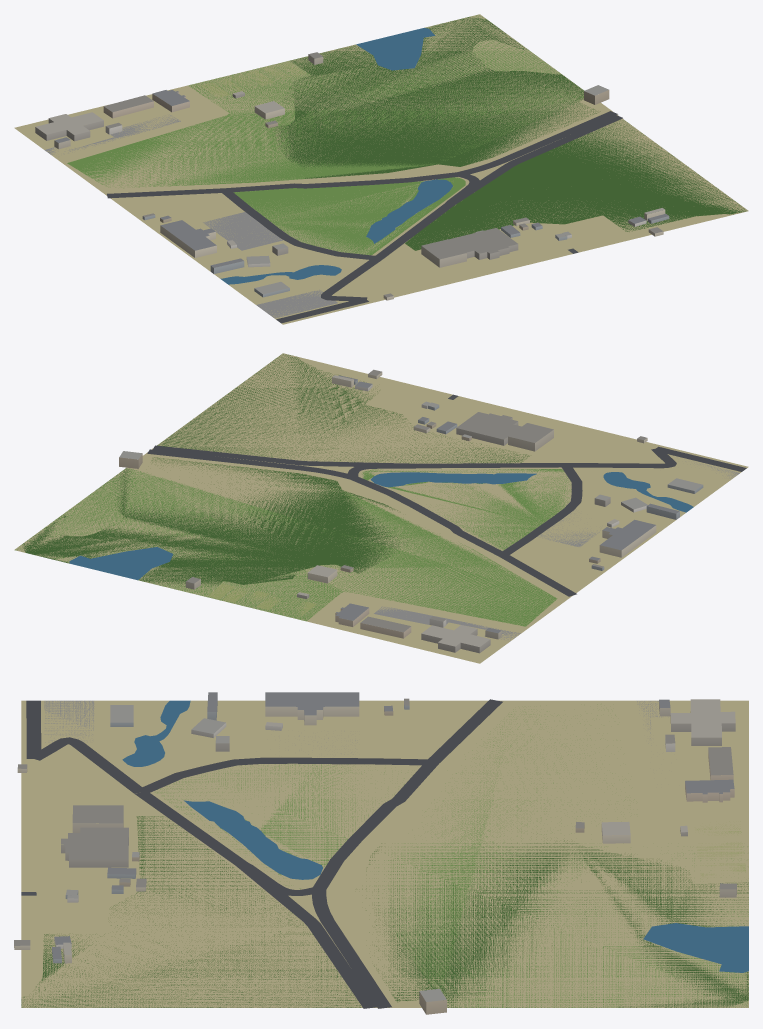
The picture shows the model from 3 angles, top to bottom: view 1: azimuth 30°, elevation 25°; view 2: azimuth 150°, elevation 25°; view 3: azimuth 270°, elevation 25°; orthographic projection. The views are drawn at different scales.
Parts seen in each view (by area): view 1: landuse, roads, buildings_roofs, buildings_walls, water; view 2: landuse, roads, buildings_roofs, buildings_walls, water; view 3: landuse, roads, buildings_roofs, water, buildings_walls.
Boxes of the visible parts, bbox=[...] form: landuse: bbox=[14, 14, 748, 324]; roads: bbox=[107, 111, 622, 323]; buildings_roofs: bbox=[35, 52, 668, 297]; buildings_walls: bbox=[35, 54, 669, 300]; water: bbox=[220, 28, 452, 284]; landuse: bbox=[14, 353, 748, 663]; roads: bbox=[147, 394, 746, 596]; buildings_roofs: bbox=[119, 369, 702, 646]; buildings_walls: bbox=[119, 372, 703, 653]; water: bbox=[69, 472, 693, 580]; landuse: bbox=[21, 700, 748, 1007]; roads: bbox=[21, 699, 502, 1008]; buildings_roofs: bbox=[14, 692, 736, 1001]; water: bbox=[122, 700, 748, 972]; buildings_walls: bbox=[14, 698, 736, 1014].
Bounding box in the file's own units: 513 × 9.61 × 505.
